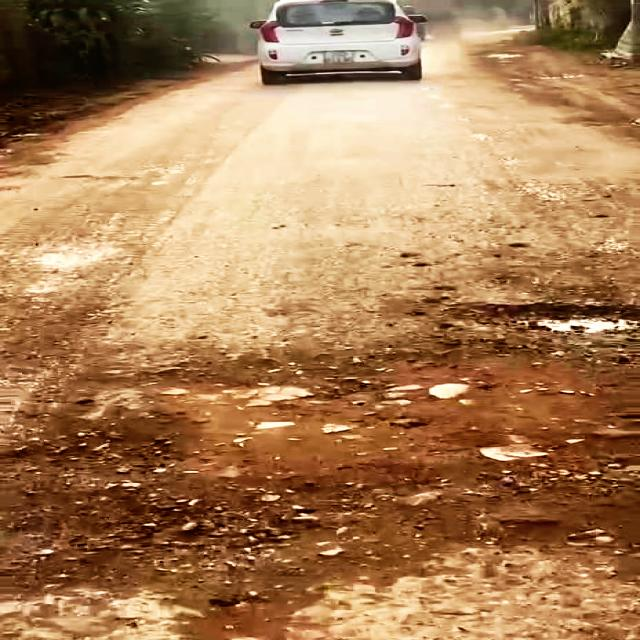pothole: (0, 433, 411, 640), (437, 296, 640, 355)
